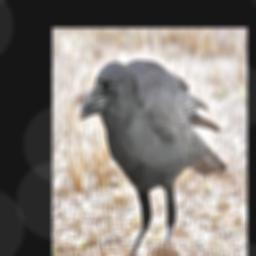Crow: (79, 58, 228, 256)
